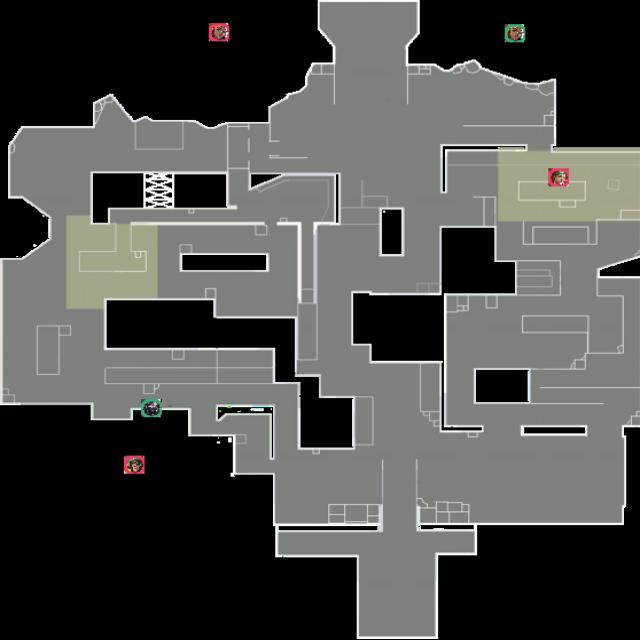atk_killjoy: (124, 456, 144, 474)
atk_raze: (209, 24, 229, 42)
atk_skye: (548, 168, 569, 186)
def_raze: (505, 24, 525, 42)
def_viper: (141, 399, 162, 417)
